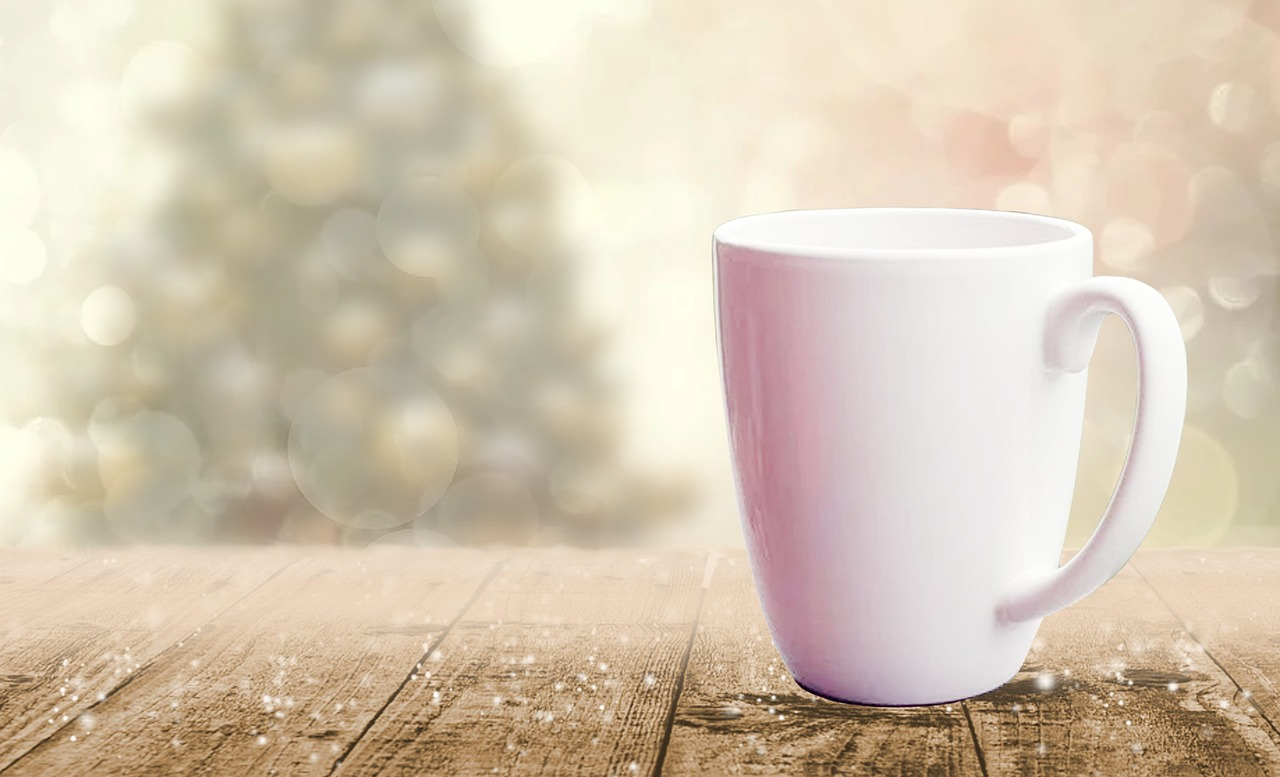mug: (686, 180, 1200, 710)
